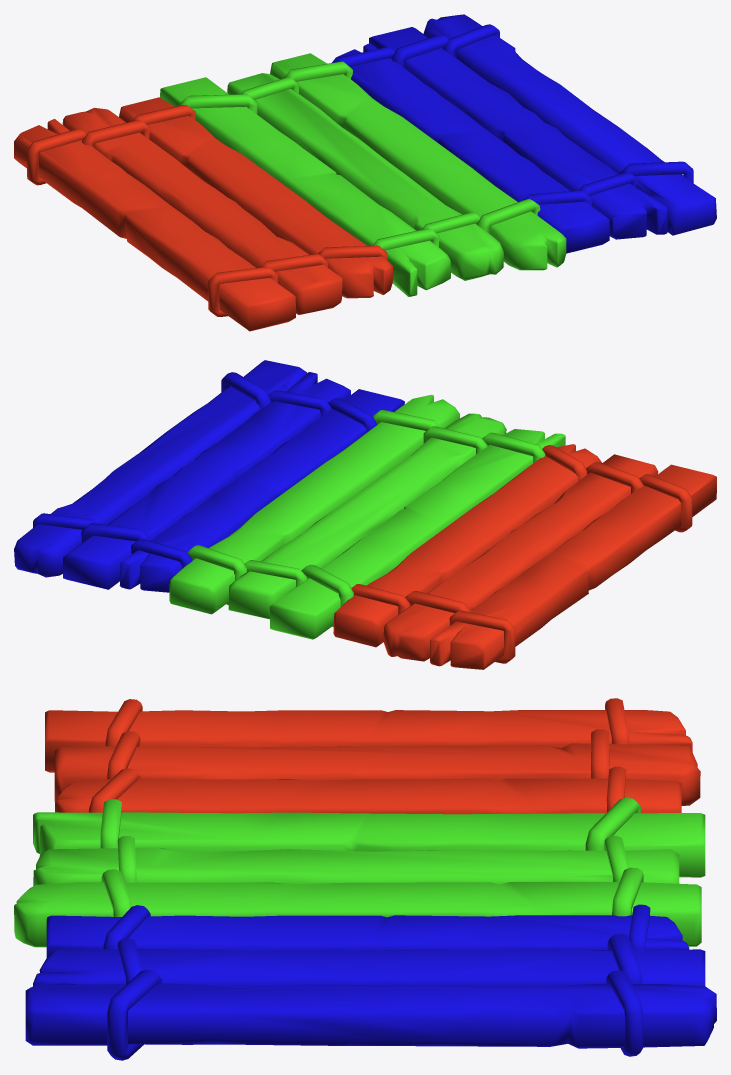
The model's file is conveyor_low.fbx.
3 renders of one model, top to bottom at view 1: azimuth 30°, elevation 25°; view 2: azimuth 150°, elevation 25°; view 3: azimuth 270°, elevation 25°, orthographic. The views are drawn at different scales.
Parts seen in each view (by area): view 1: Conveyer_low; view 2: Conveyer_low; view 3: Conveyer_low.
Boxes of the visible parts, x1,y1,x2,y2 form: Conveyer_low: (14,14,716,331); Conveyer_low: (14,360,716,669); Conveyer_low: (14,698,716,1060).
Size of the model in its own units: 342 by 33.39 by 360.
